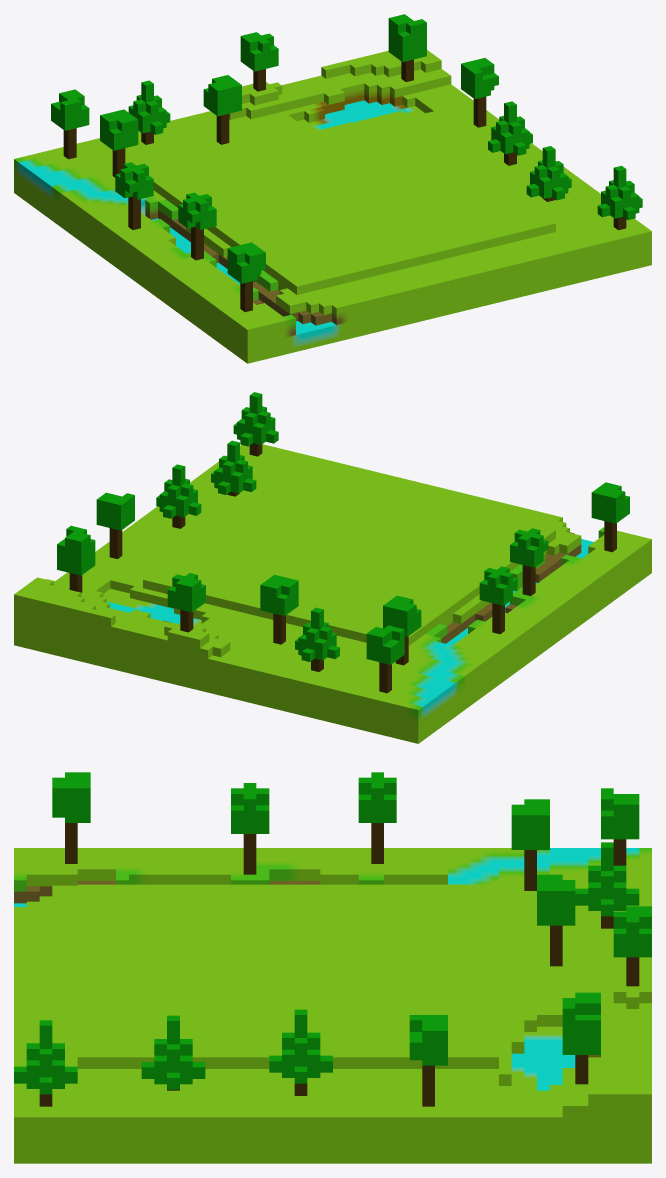
Rendered from MiniWorld_Forest.fbx.
3 views of the same model, one above another, from view 1: azimuth 30°, elevation 25°; view 2: azimuth 150°, elevation 25°; view 3: azimuth 270°, elevation 25° (orthographic). The views are drawn at different scales.
Visible parts, largest first — view 1: Matrix; view 2: Matrix; view 3: Matrix.
Part boxes in pixels (<box>): Matrix: <box>14,14,651,363</box>; Matrix: <box>14,392,651,743</box>; Matrix: <box>14,772,651,1163</box>.
Bounding box in the file's own units: 50 × 12 × 50.
